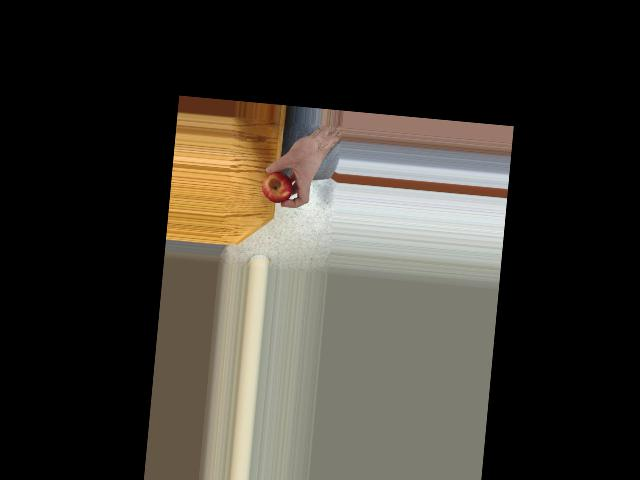apple: (260, 169, 291, 204)
